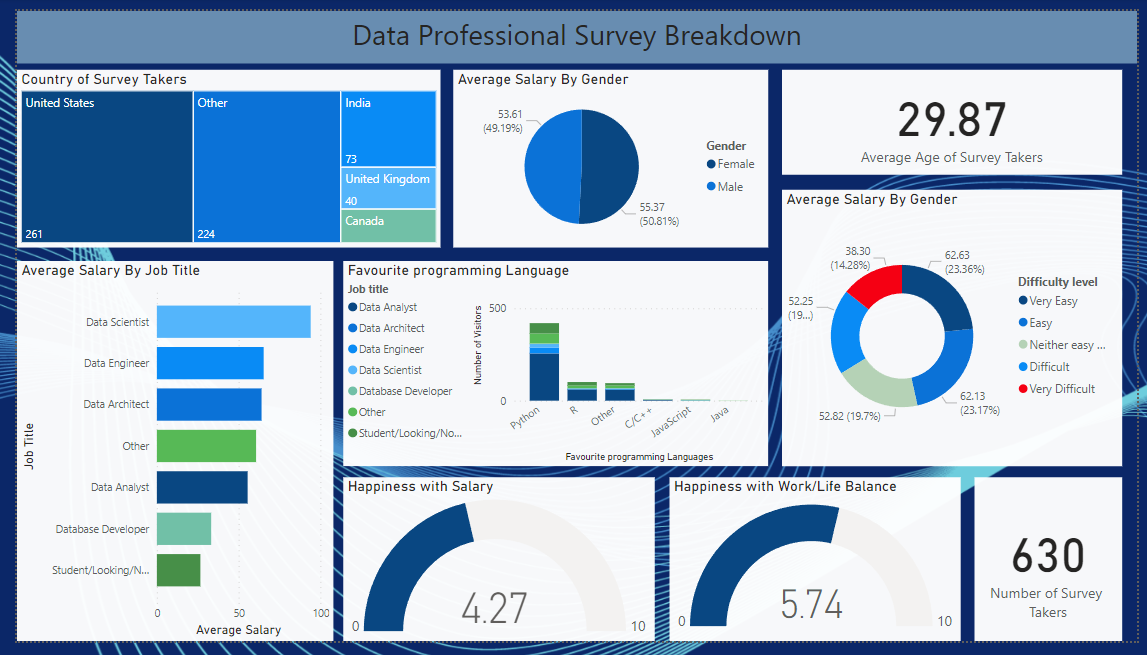

The page's visual inventory and layout, read from the dashboard file:
{"tool":"powerbi","page":{"name":"Page 1","canvas":[1280,720],"ordinal":0},"visuals":[{"type":"textbox","box":[0,0,1280,60],"z":0},{"type":"card","fields":{"Values":["Count(Data Professional Survey.Unique ID)"]},"box":[1094.3,532.9,168.6,187.1],"z":1000},{"type":"card","fields":{"Values":["Avg(Data Professional Survey.Q10 - Current Age)"]},"box":[874.3,67.1,388.6,120],"z":2000},{"type":"barChart","title":"Average Salary By Job Title","fields":{"Category":["Data Professional Survey.Q1 - Which Title Best Fits your Current Role?.1"],"Y":["Avg(Data Professional Survey.Average Salary)"],"Series":["Data Professional Survey.Q1 - Which Title Best Fits your Current Role?.1"]},"box":[0,285.7,361.4,434.3],"z":3000},{"type":"columnChart","title":"Favourite programming Language","fields":{"Category":["Data Professional Survey.Q5 - Favorite Programming Language.1"],"Y":["CountNonNull(Data Professional Survey.Unique ID)"],"Series":["Data Professional Survey.Q1 - Which Title Best Fits your Current Role?.1"]},"box":[372.9,285.7,485.7,234.3],"z":4000},{"type":"treemap","title":"Country of Survey Takers","fields":{"Group":["Data Professional Survey.Q11 - Which Country do you live in?.1"],"Values":["CountNonNull(Data Professional Survey.Q11 - Which Country do you live in?.1)"]},"box":[0,67.1,484.3,202.9],"z":5000},{"type":"gauge","title":"Happiness with Salary","fields":{"Y":["Avg(Data Professional Survey.Q6 - How Happy are you in your Current Position with the following? (Salary))"],"MinValue":["Min(Data Professional Survey.Q6 - How Happy are you in your Current Position with the following? (Salary))"],"MaxValue":["Max(Data Professional Survey.Q6 - How Happy are you in your Current Position with the following? (Salary))"]},"box":[372.9,532.9,355.7,187.1],"z":6000},{"type":"gauge","title":"Happiness with Work/Life Balance","fields":{"MinValue":["Min(Data Professional Survey.Q6 - How Happy are you in your Current Position with the following? (Work/Life Balance))"],"MaxValue":["Max(Data Professional Survey.Q6 - How Happy are you in your Current Position with the following? (Work/Life Balance))"],"Y":["Avg(Data Professional Survey.Q6 - How Happy are you in your Current Position with the following? (Work/Life Balance))"]},"box":[745.7,532.9,332.9,187.1],"z":7000},{"type":"pieChart","title":"Average Salary By Gender","fields":{"Category":["Data Professional Survey.Q9 - Male/Female?"],"Y":["Avg(Data Professional Survey.Average Salary)"]},"box":[498.6,67.1,360,202.9],"z":8000},{"type":"donutChart","title":"Average Salary By Gender","fields":{"Category":["Data Professional Survey.Q7 - How difficult was it for you to break into Data?"],"Y":["Avg(Data Professional Survey.Average Salary)"]},"box":[874.3,204.3,388.6,315.7],"z":9000}]}

Visuals, with their boxes in screenshot pixels (x1, y1, x2, y2), scaled from the page's 1280x720 canvas onto the 1147x655 screenshot:
textbox: 0/0/1146/55
card - Count(Data Professional Survey.Unique ID): 981/485/1132/654
card - Avg(Data Professional Survey.Q10 - Current Age): 783/61/1132/170
"Average Salary By Job Title" barChart: 0/260/324/654
"Favourite programming Language" columnChart: 334/260/769/473
"Country of Survey Takers" treemap: 0/61/434/246
"Happiness with Salary" gauge: 334/485/653/654
"Happiness with Work/Life Balance" gauge: 668/485/967/654
"Average Salary By Gender" pieChart: 447/61/769/246
"Average Salary By Gender" donutChart: 783/186/1132/473
